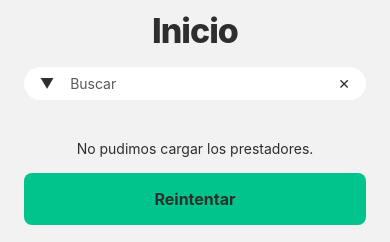
Test: InicioScreen › con error muestra el mensaje y Reintentar vuelve a pedir
The image size is (390, 242).
Expected: the text "No pudimos cargar los prestadores." is shown, [77,140,313,157]
Click the button "Reintentar". click: {"x": 195, "y": 199}
box: [24,173,366,225]
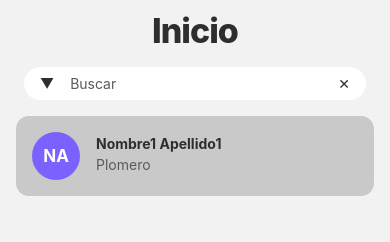
Result: the text "Nombre1 Apellido1" is shown at [96,135,221,152]
